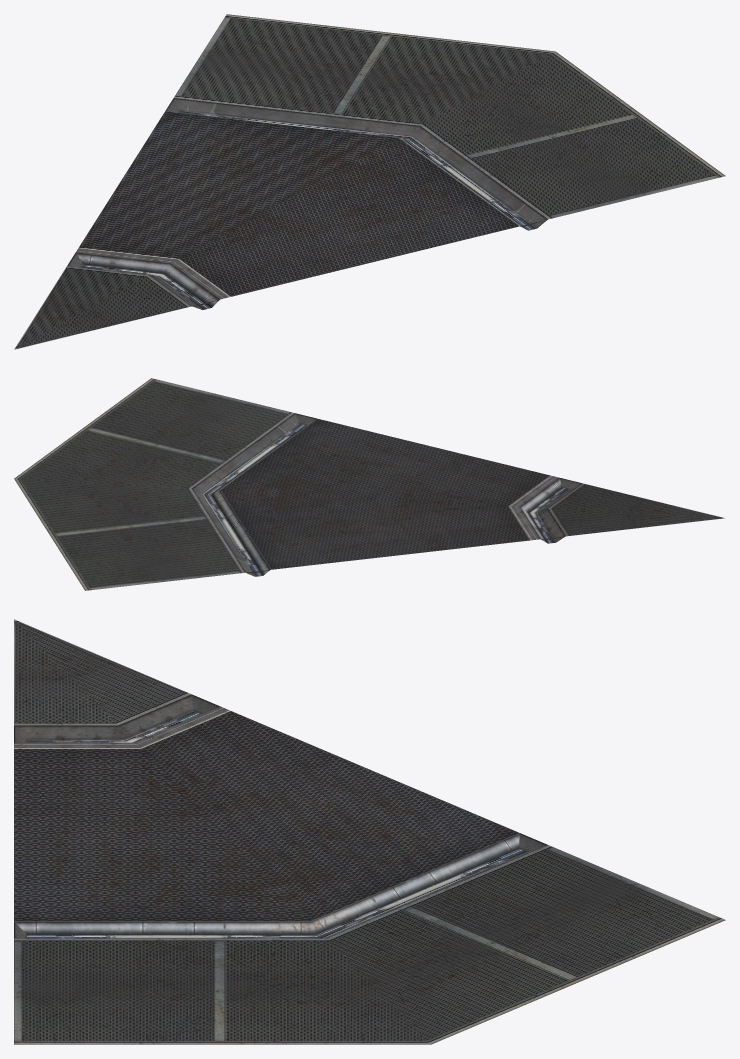
File: Floor_B_5mts_06.fbx
3 renders of one model, top to bottom at view 1: azimuth 30°, elevation 25°; view 2: azimuth 150°, elevation 25°; view 3: azimuth 270°, elevation 25°, orthographic. The views are drawn at different scales.
Visible parts, largest first — view 1: Floor_B_5mts_06; view 2: Floor_B_5mts_06; view 3: Floor_B_5mts_06.
Boxes of the visible parts, x1,y1,x2,y2 form: Floor_B_5mts_06: (14,14,725,349); Floor_B_5mts_06: (14,378,724,590); Floor_B_5mts_06: (14,619,725,1044).
Bounding box in the file's own units: 500 × 4.45 × 354.
Materials: 1 (1 with a texture image).
